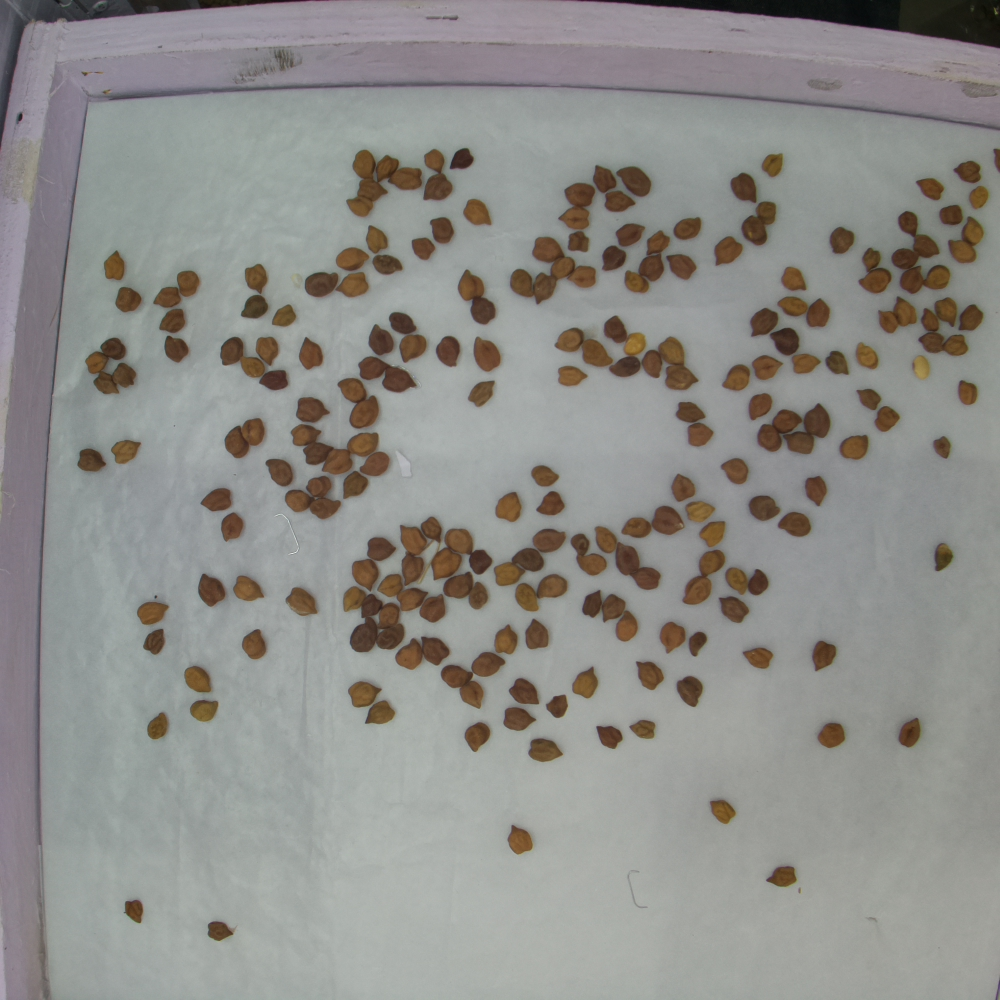desichanna: (815, 716, 852, 757), (892, 713, 927, 751), (341, 619, 380, 653), (764, 856, 800, 892), (609, 353, 645, 389), (283, 587, 321, 621), (277, 484, 314, 518), (511, 540, 550, 572), (294, 390, 332, 422), (615, 163, 653, 195), (180, 665, 220, 695), (261, 451, 294, 487), (458, 198, 497, 228), (562, 180, 605, 207), (350, 396, 383, 430), (392, 639, 426, 672), (374, 622, 414, 650), (215, 510, 252, 540), (195, 486, 241, 510), (526, 734, 564, 763), (471, 333, 500, 371), (232, 572, 264, 606), (521, 622, 555, 653), (427, 550, 461, 581), (718, 362, 752, 393), (156, 334, 192, 363), (374, 368, 421, 390), (368, 319, 395, 357), (302, 336, 327, 377), (729, 171, 764, 200), (344, 680, 383, 706), (664, 369, 703, 395), (530, 528, 574, 551), (808, 296, 835, 333), (174, 268, 205, 300), (421, 634, 453, 665), (461, 721, 495, 750), (853, 383, 885, 413), (562, 227, 594, 257), (745, 307, 774, 340), (656, 334, 689, 363), (705, 796, 739, 824), (308, 493, 342, 521), (777, 510, 812, 537), (773, 324, 800, 359), (527, 236, 568, 259), (717, 596, 753, 622), (536, 571, 572, 597), (347, 428, 383, 454), (252, 334, 282, 365), (570, 666, 599, 698), (465, 378, 497, 407), (491, 490, 520, 522), (614, 540, 639, 577), (239, 628, 265, 663), (362, 451, 397, 477), (335, 246, 371, 271), (424, 172, 453, 203), (711, 236, 742, 265), (197, 574, 224, 607), (917, 327, 944, 360), (659, 621, 686, 654), (400, 330, 427, 363), (552, 328, 586, 354), (895, 290, 917, 330), (333, 275, 368, 300), (367, 254, 405, 277), (635, 660, 664, 690), (788, 431, 818, 460), (114, 284, 142, 315), (674, 675, 702, 706), (73, 445, 105, 472), (447, 572, 474, 604), (497, 707, 538, 728), (959, 303, 985, 336), (435, 336, 461, 369), (135, 600, 170, 624), (444, 528, 474, 556), (511, 268, 535, 303), (111, 439, 142, 466), (652, 506, 683, 533), (239, 416, 270, 443), (467, 581, 494, 612), (671, 215, 702, 242), (850, 274, 888, 296), (579, 340, 611, 366), (364, 700, 397, 725), (933, 539, 953, 580), (492, 560, 526, 584), (459, 269, 483, 303), (389, 165, 423, 189), (512, 584, 541, 612), (350, 559, 379, 587), (111, 359, 138, 389), (876, 404, 903, 434), (682, 580, 712, 607), (400, 524, 427, 554), (422, 587, 449, 617), (470, 295, 497, 325), (740, 218, 770, 245), (550, 210, 595, 228), (618, 218, 645, 248), (806, 406, 832, 437), (527, 275, 558, 301), (621, 330, 652, 356), (286, 422, 321, 445), (749, 563, 774, 595), (720, 459, 752, 484), (359, 175, 391, 200), (155, 309, 188, 333), (755, 424, 782, 453), (782, 265, 811, 292), (626, 268, 652, 298), (889, 250, 926, 271), (508, 678, 539, 703), (221, 425, 245, 457), (749, 495, 777, 522), (738, 648, 774, 669), (576, 555, 612, 576), (494, 625, 520, 654), (447, 145, 476, 171), (685, 422, 714, 448), (747, 392, 773, 421), (245, 265, 270, 295), (352, 146, 374, 180), (509, 825, 533, 856), (614, 612, 638, 643), (371, 603, 402, 627), (700, 550, 727, 577), (473, 648, 500, 675), (839, 434, 867, 460), (594, 525, 620, 553), (344, 472, 370, 500), (306, 274, 339, 296), (811, 640, 836, 669), (600, 243, 629, 268), (102, 251, 126, 281), (399, 553, 423, 583), (535, 492, 565, 516), (962, 212, 986, 242), (899, 210, 923, 240), (758, 357, 788, 381), (603, 193, 639, 213), (570, 263, 600, 287), (258, 368, 292, 389), (939, 203, 973, 224), (853, 340, 880, 366), (859, 245, 886, 271), (217, 337, 242, 365), (702, 519, 726, 548), (921, 265, 950, 289), (665, 254, 694, 278), (958, 374, 979, 407), (805, 474, 826, 507), (150, 286, 180, 309), (356, 354, 386, 377), (759, 148, 782, 178), (644, 254, 670, 280), (374, 574, 402, 598), (944, 331, 967, 360), (368, 536, 397, 559), (430, 213, 453, 242), (639, 351, 662, 380), (439, 668, 476, 686), (673, 403, 708, 422), (202, 921, 233, 942), (242, 296, 267, 322), (339, 378, 364, 404), (99, 336, 126, 360), (341, 586, 365, 613), (342, 196, 374, 216), (632, 568, 661, 590), (874, 309, 899, 334), (917, 237, 942, 262), (774, 409, 800, 433), (899, 269, 926, 292), (545, 690, 567, 718), (955, 162, 983, 184), (192, 700, 221, 721), (303, 472, 332, 493), (532, 465, 561, 486), (365, 222, 386, 251), (780, 295, 809, 316), (270, 303, 295, 327), (374, 154, 399, 178), (556, 366, 586, 386), (142, 628, 165, 654), (145, 713, 168, 739), (917, 307, 939, 334), (833, 227, 855, 254), (915, 348, 930, 387), (626, 719, 655, 739), (618, 516, 650, 534), (789, 357, 821, 375), (94, 377, 118, 400), (239, 354, 262, 378), (412, 236, 435, 260), (826, 351, 849, 375), (580, 593, 602, 618), (424, 150, 449, 172), (673, 475, 694, 501), (945, 239, 971, 260), (915, 178, 942, 198), (592, 163, 612, 190), (123, 898, 145, 922), (326, 453, 350, 475), (726, 568, 747, 593), (603, 593, 621, 622), (689, 630, 708, 657), (399, 590, 429, 607), (461, 683, 483, 706), (597, 725, 621, 746), (303, 442, 327, 463), (603, 315, 624, 339), (935, 298, 958, 319), (756, 201, 780, 221), (549, 260, 573, 280), (686, 501, 714, 518), (356, 596, 377, 618), (471, 548, 488, 575), (645, 234, 671, 251), (423, 516, 444, 537), (394, 313, 418, 331), (85, 354, 106, 374), (930, 436, 950, 457), (570, 534, 589, 554), (971, 187, 985, 207), (992, 143, 1000, 165)
